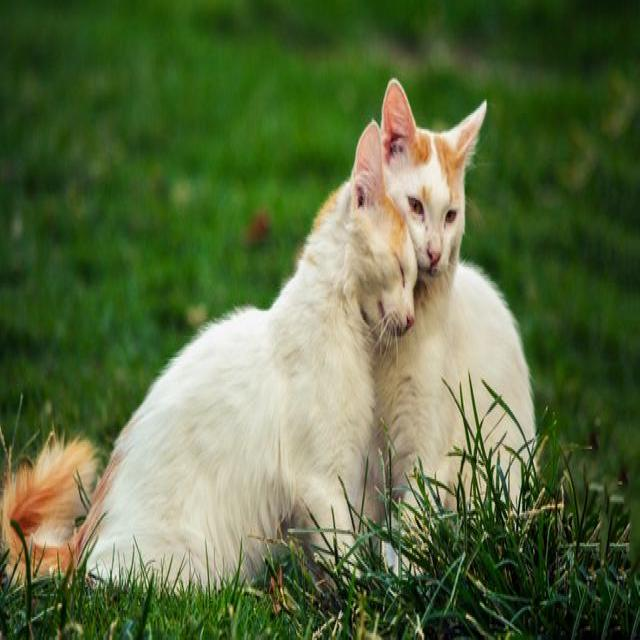cat: (139, 150, 405, 582), (348, 62, 545, 528)
